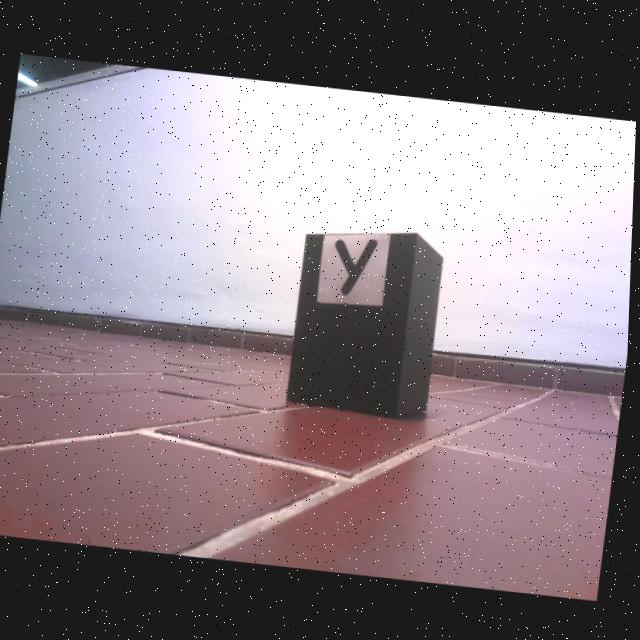Y: (337, 238, 379, 292)
